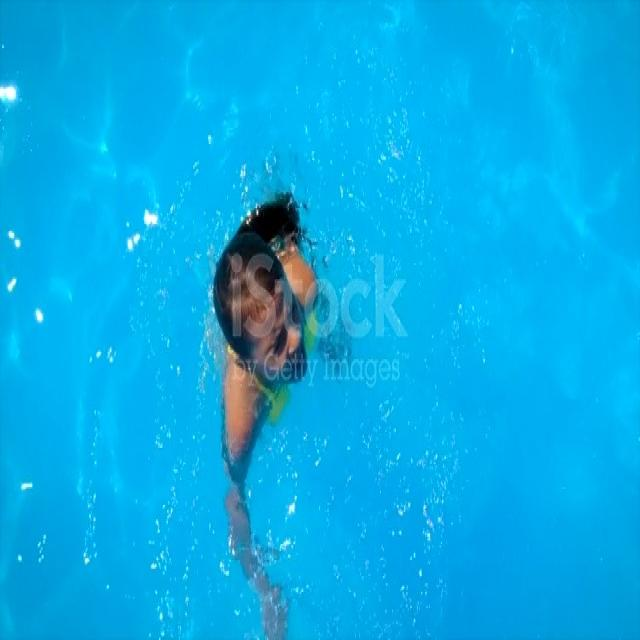Drowning: (204, 179, 364, 597)
